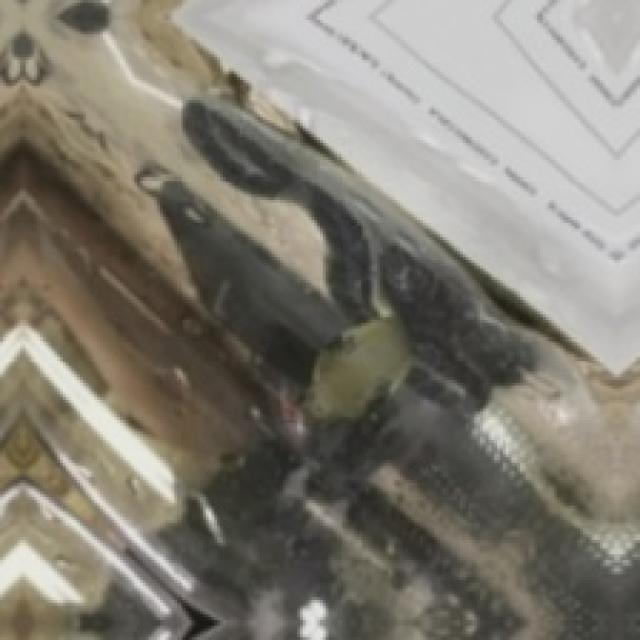king cobra: (0, 0, 637, 637), (157, 97, 637, 634)
